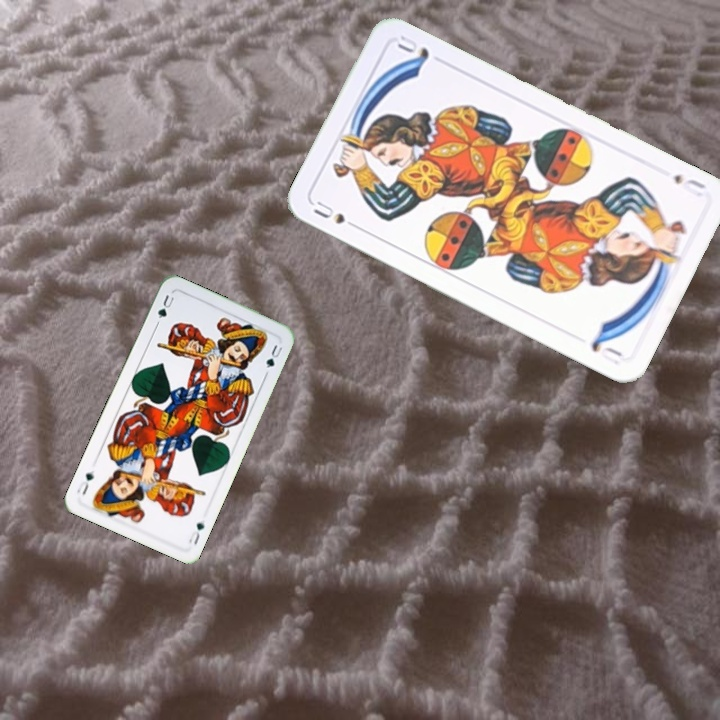GU: (152, 291, 176, 327), (185, 516, 207, 547)
SU: (309, 196, 364, 233), (669, 170, 709, 200)
